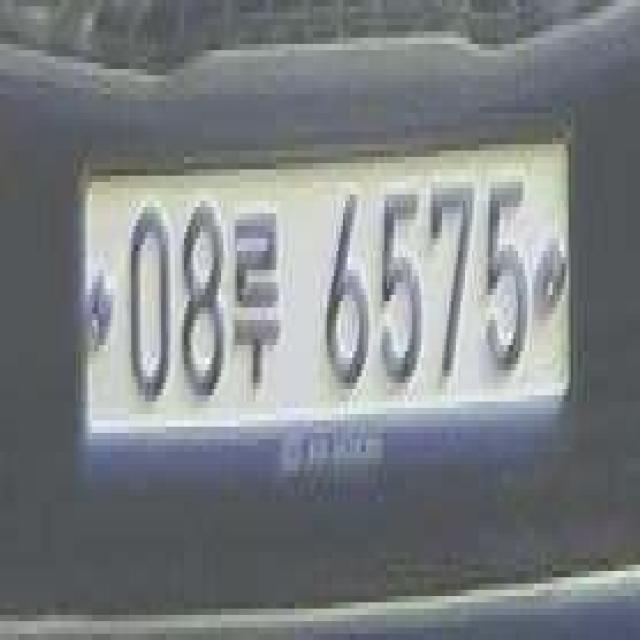illegal_plate: (81, 132, 572, 484)
